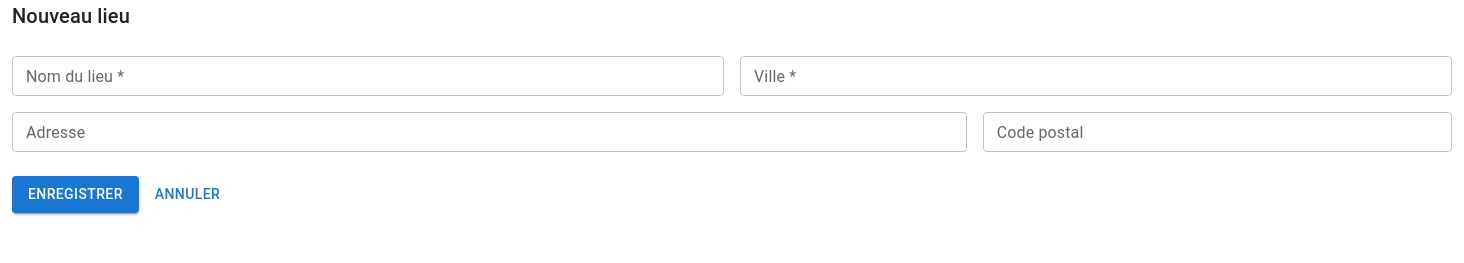
VenueForm › affiche les erreurs si nom ou ville sont vides
Click the button "Enregistrer" at (75, 194), box [12, 176, 139, 212]
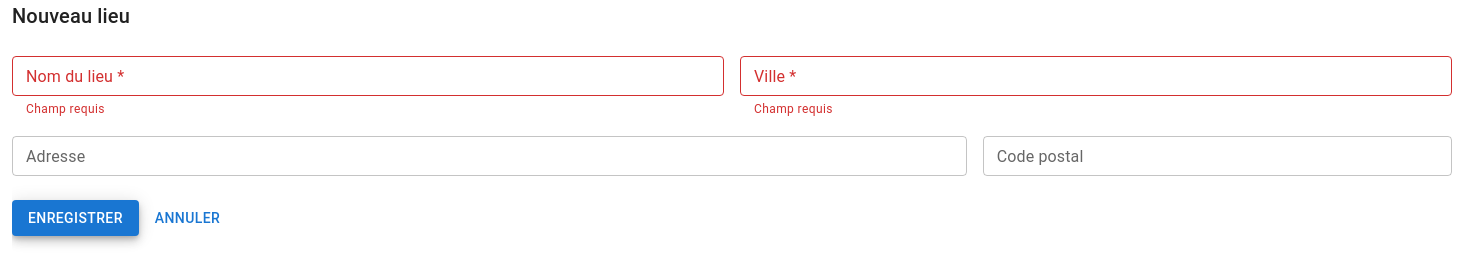
Result: the text "Champ requis" is shown 2 times at [26, 102, 105, 116]; [754, 102, 833, 116]
